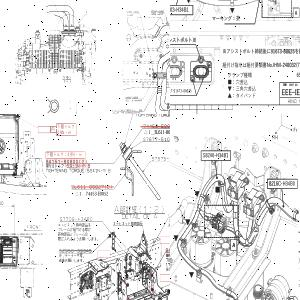PartNumber: (202, 151, 228, 159), (59, 216, 93, 222), (269, 180, 295, 187), (143, 136, 170, 141), (46, 160, 78, 164), (86, 191, 109, 196), (170, 6, 189, 12), (151, 155, 170, 161), (154, 128, 170, 135), (174, 88, 192, 94), (126, 11, 140, 14), (125, 96, 138, 99), (150, 10, 164, 12)
